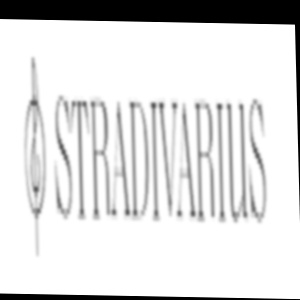stradivarius: (252, 31, 280, 45)
